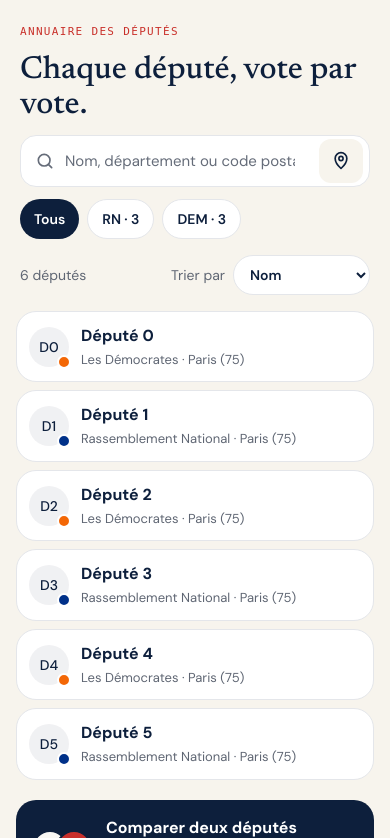
Test: DeputiesMobile › filters by group with the chips
Click the button "RN · 3" at (121, 219), box 87,199 -> 154,239
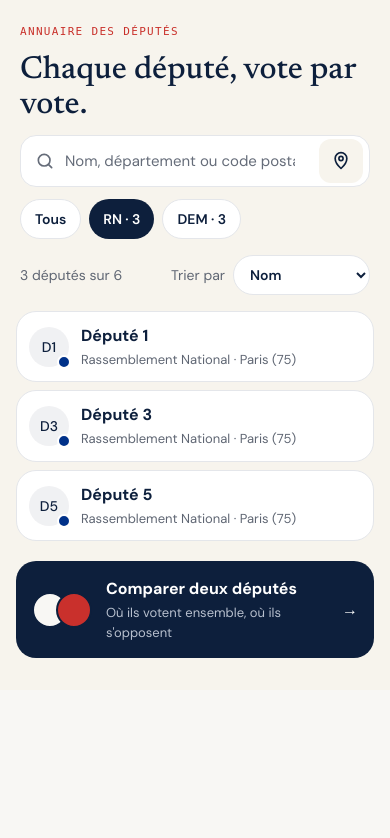
expect the number of links "D1 Député 1 Rassemblement National · Paris (75)" is 3: met, box 16,311 -> 374,382; 16,390 -> 374,462; 16,470 -> 374,541
